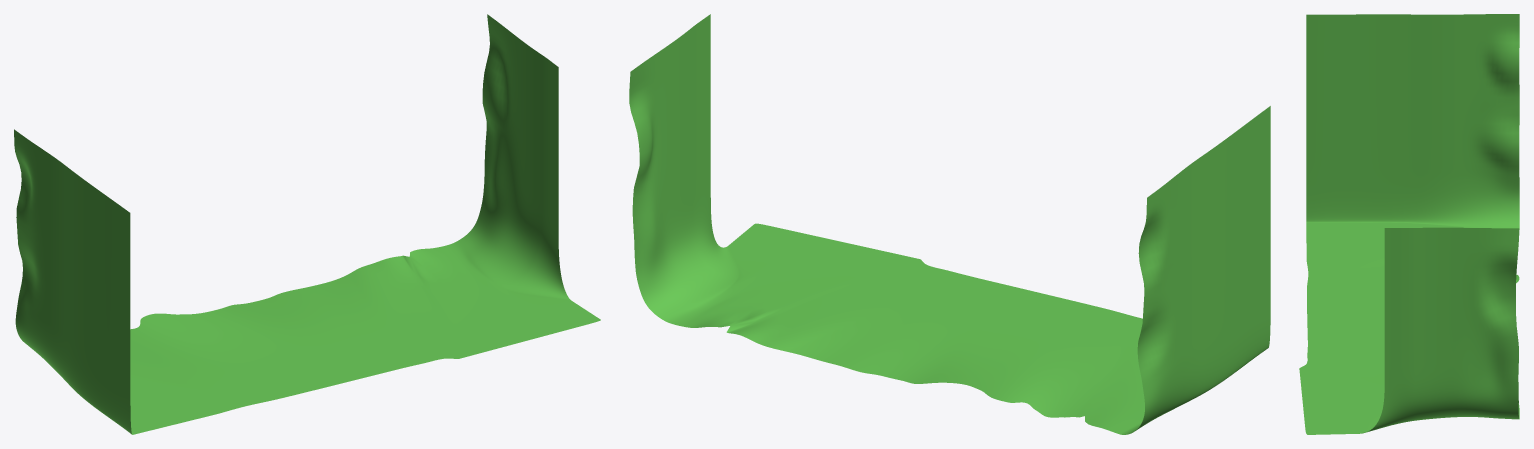
File: wall_part1.FBX
3 renders of one model, left to right at view 1: azimuth 30°, elevation 25°; view 2: azimuth 150°, elevation 25°; view 3: azimuth 270°, elevation 25°, orthographic. The views are drawn at different scales.
Visible parts, largest first — view 1: Object002; view 2: Object002; view 3: Object002.
Boxes of the visible parts, x1,y1,x2,y2 form: Object002: (14,14,600,434); Object002: (629,14,1270,434); Object002: (1299,14,1519,434).
Bounding box in the file's own units: 818 × 373 × 354.
